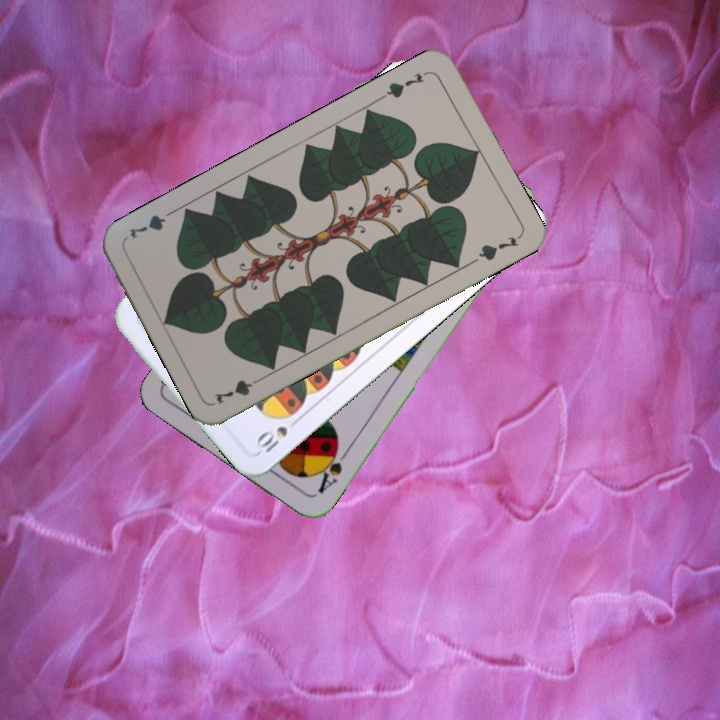G7: (210, 372, 267, 408), (376, 67, 431, 102)
S10: (250, 413, 302, 456)
SA: (313, 440, 352, 497)
